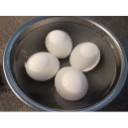begg: (26, 51, 58, 80), (69, 42, 100, 71)
